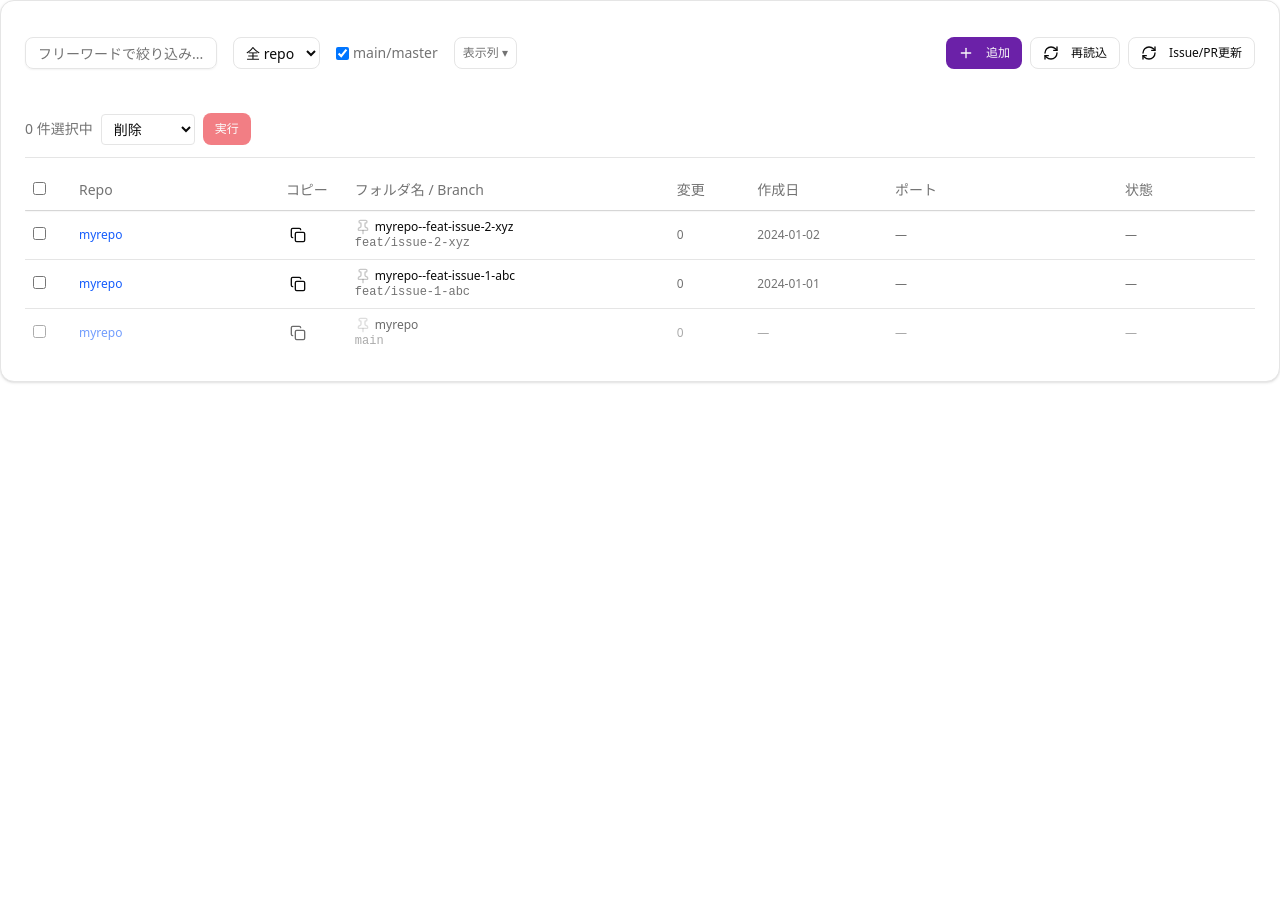
Test: TreesPage - checkbox and bulk action › shows confirmation modal with selected items when execute is clicked
Click the checkbox named "myrepo/myrepo--feat-issue-1-abc を選択" at (40, 282), box [33,276,46,288]
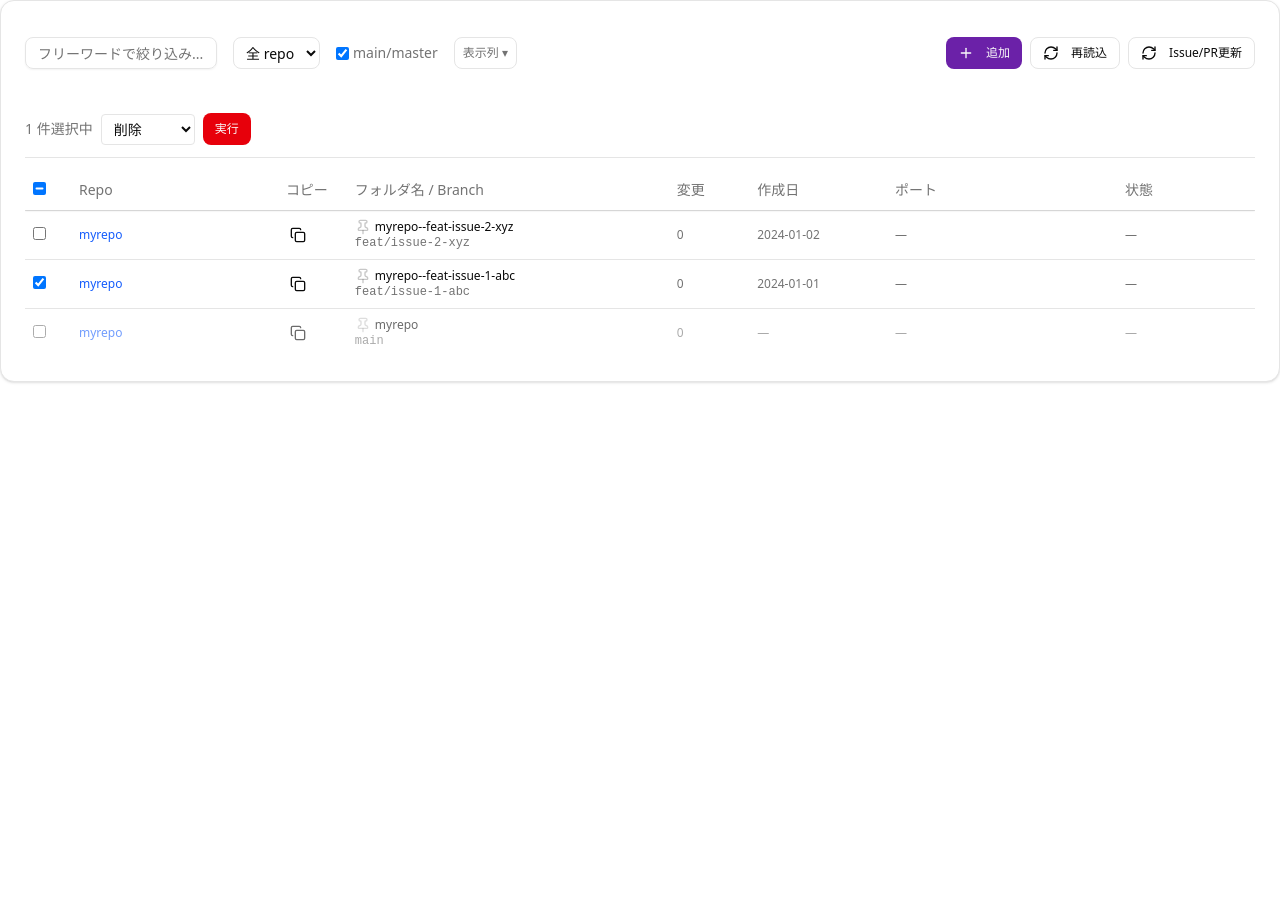
Click the button "実行" at (227, 129), box [203,113,251,145]
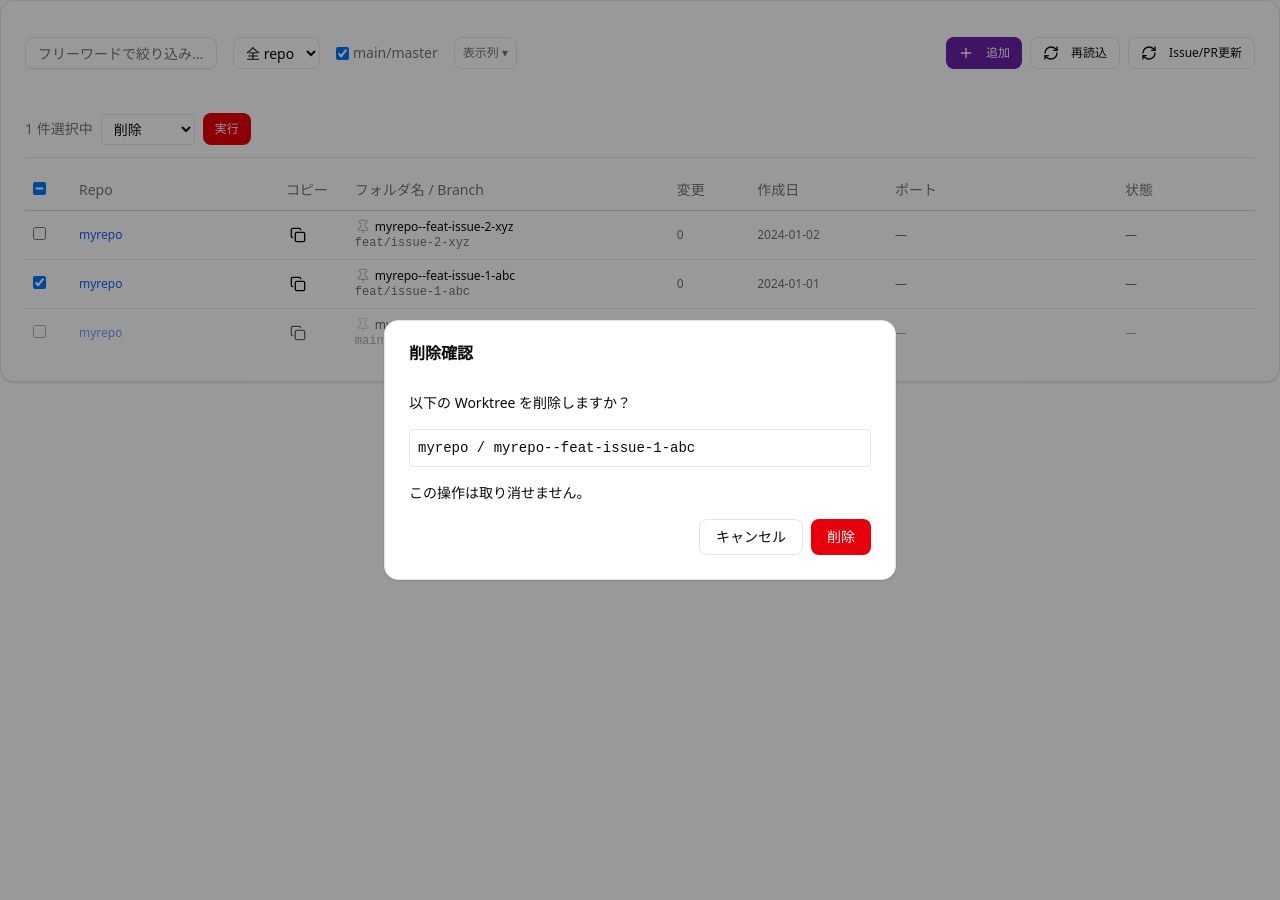
expect the text "削除確認" is shown: met, box [409,342,473,364]
expect the list item "myrepo / myrepo--feat-issue-1-abc" is shown: met, box [418,440,695,456]
